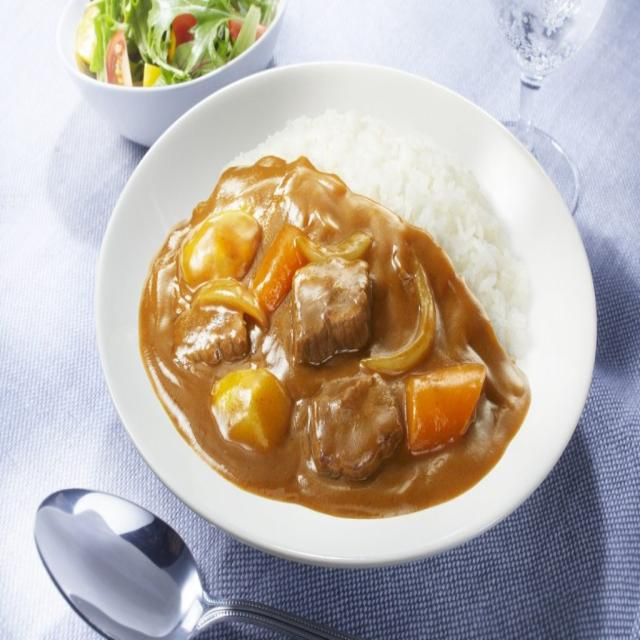carb: (236, 112, 531, 360)
meat: (311, 376, 405, 479), (292, 259, 372, 367), (174, 307, 251, 368)
vegetable: (181, 212, 374, 332), (362, 268, 436, 375), (406, 364, 487, 454), (212, 370, 294, 453)
